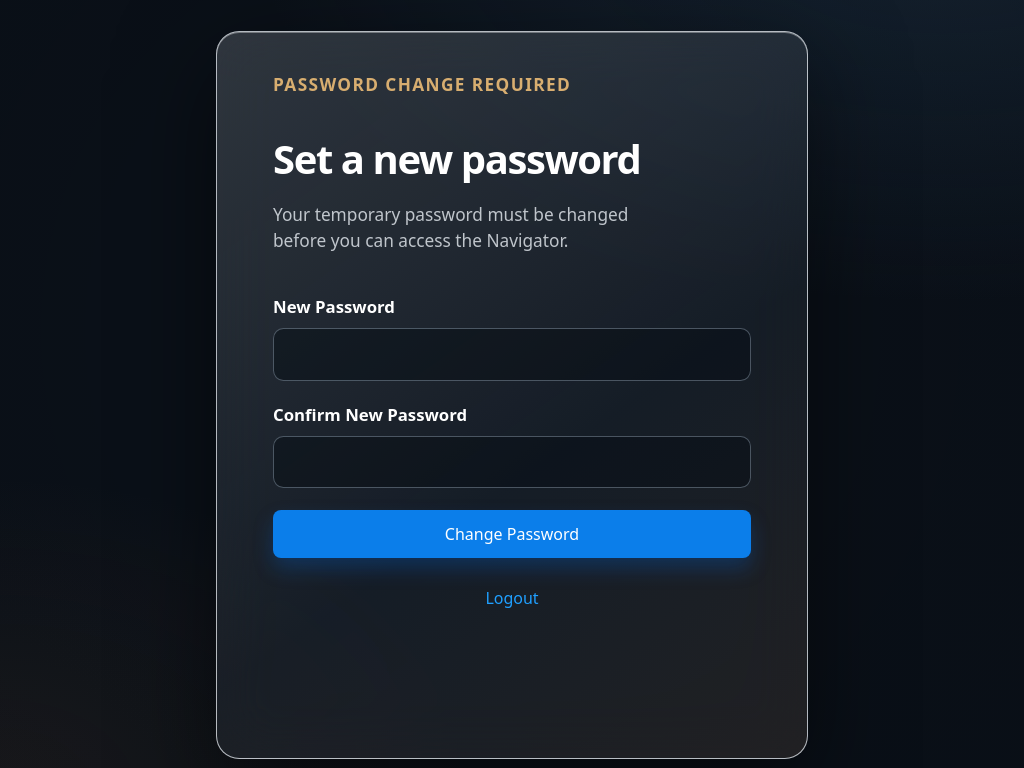
Test: renders two password fields, validation, save, and logout controls
The width and height of the screenshot is (1024, 768).
Expected: the password field labelled "New Password" is shown, x1=273 y1=328 x2=751 y2=381
Expected: the password field labelled "Confirm New Password" is shown, x1=273 y1=436 x2=751 y2=488
Click the button "Change Password" at (512, 534), box x1=273 y1=510 x2=751 y2=558
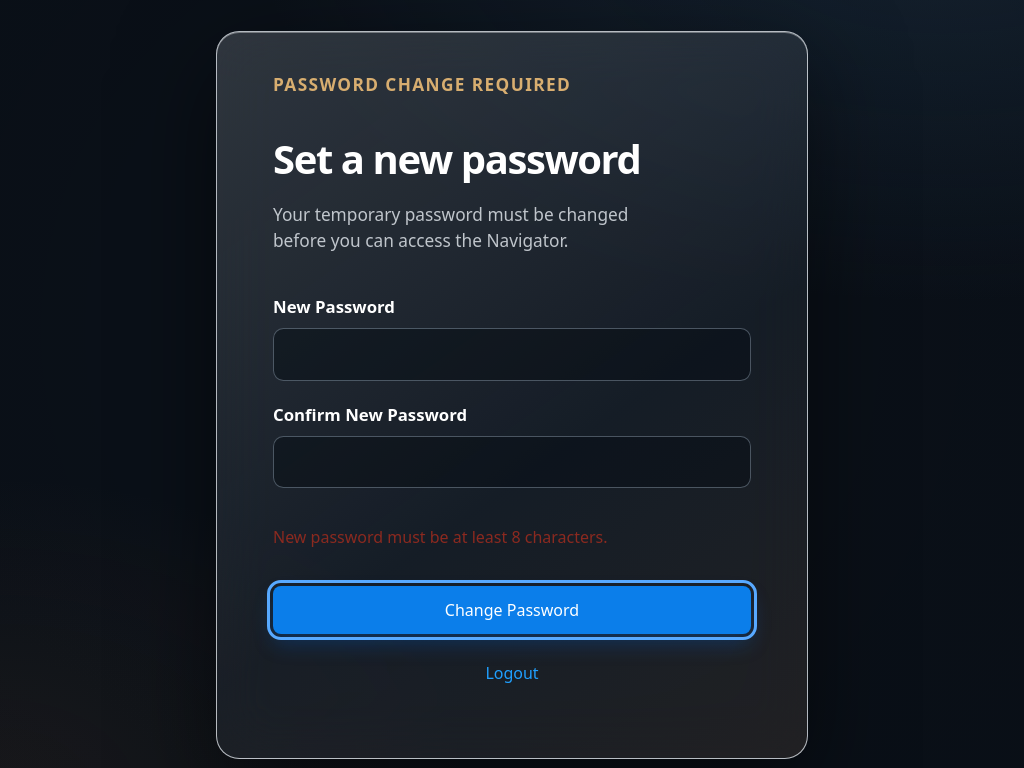
Now the message shows "at least 8", box x1=273 y1=526 x2=608 y2=548
Type "strongpass8" into the password field labelled "New Password" at (512, 355), box x1=273 y1=328 x2=751 y2=381
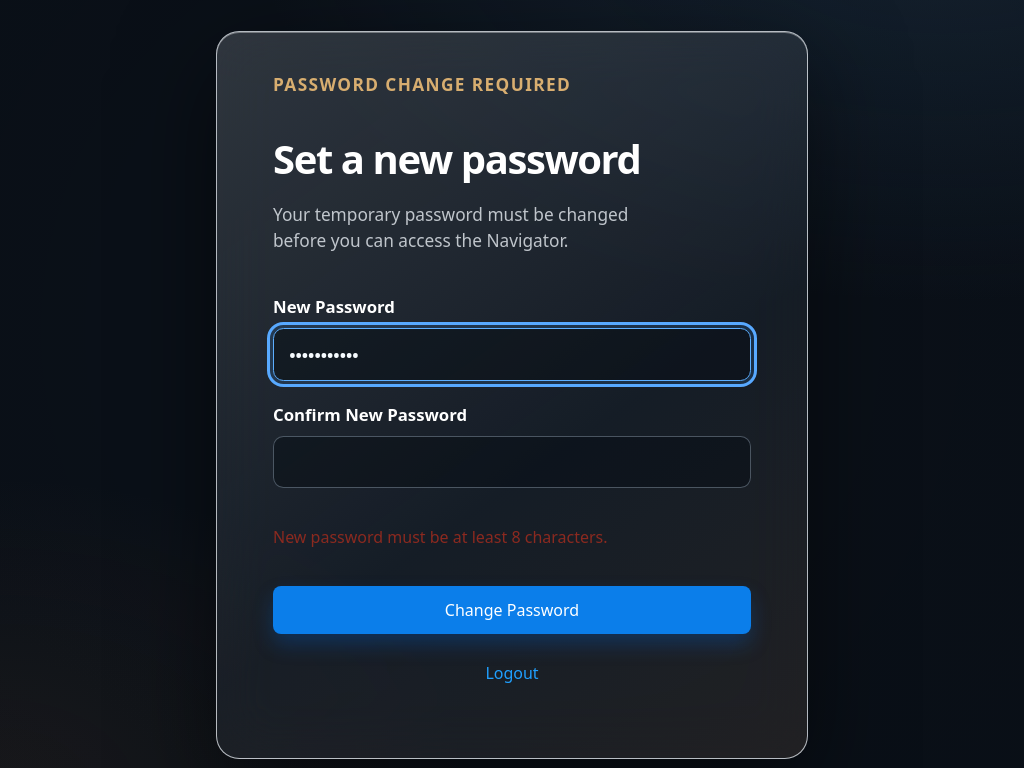
Type "different9" into the password field labelled "Confirm New Password" at (512, 462), box x1=273 y1=436 x2=751 y2=488
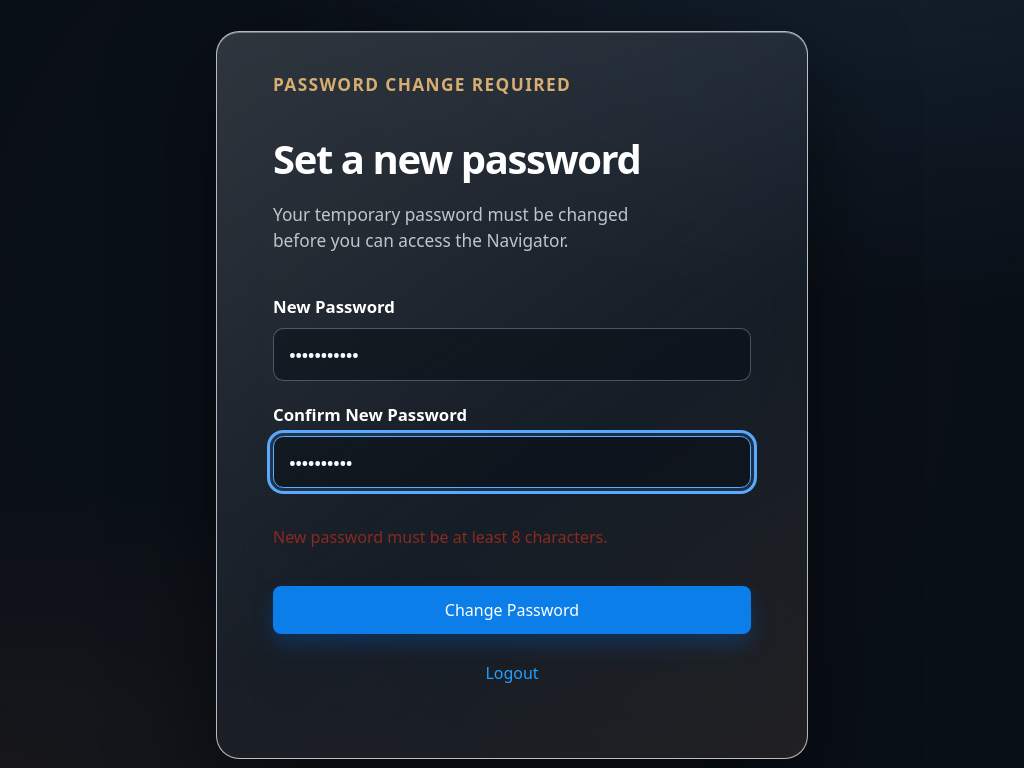
Click the button "Change Password" at (512, 610), box x1=273 y1=586 x2=751 y2=634
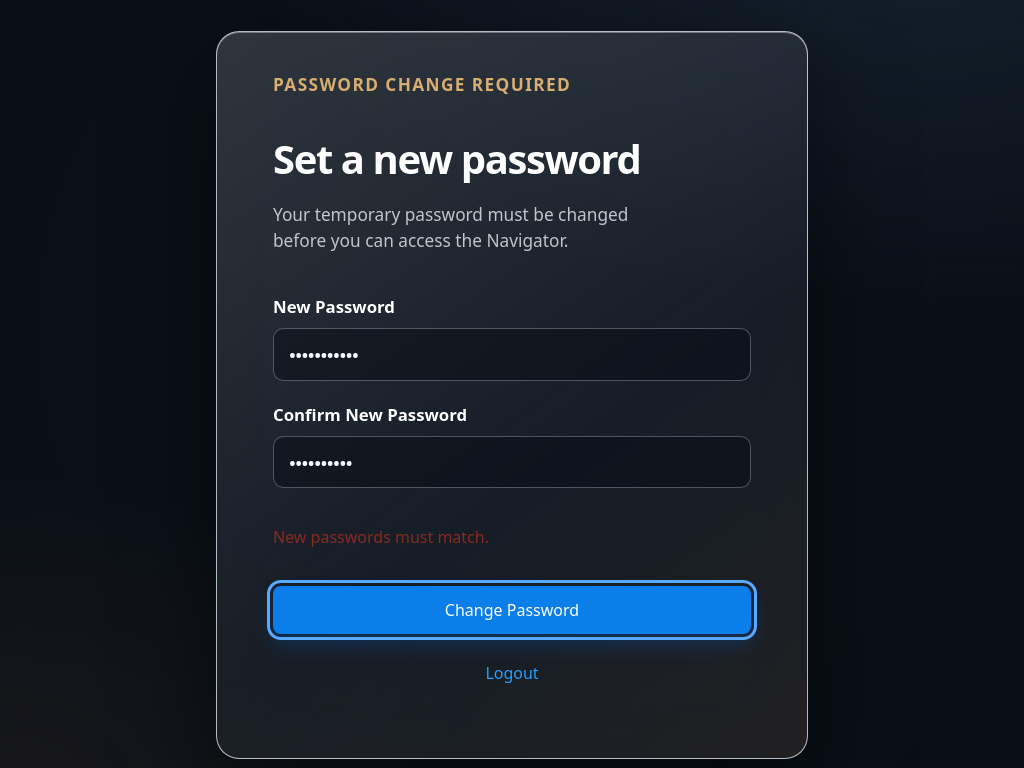
Now the message shows "match", box x1=273 y1=526 x2=489 y2=548
